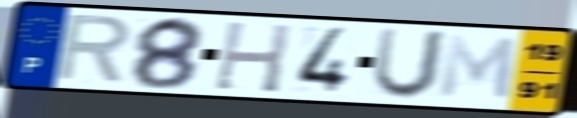4: (291, 24, 353, 97)
8: (131, 14, 208, 91)
H: (211, 19, 295, 95)
M: (436, 33, 520, 104)
R: (50, 12, 136, 87)
U: (368, 25, 452, 102)
